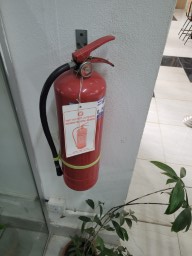fire_extinguisher: (26, 101, 144, 203)
